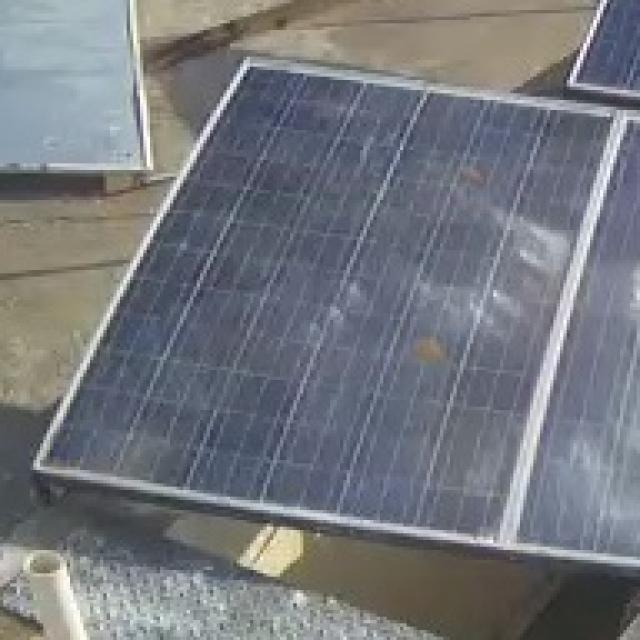Bird-drop: (410, 187, 568, 373)
